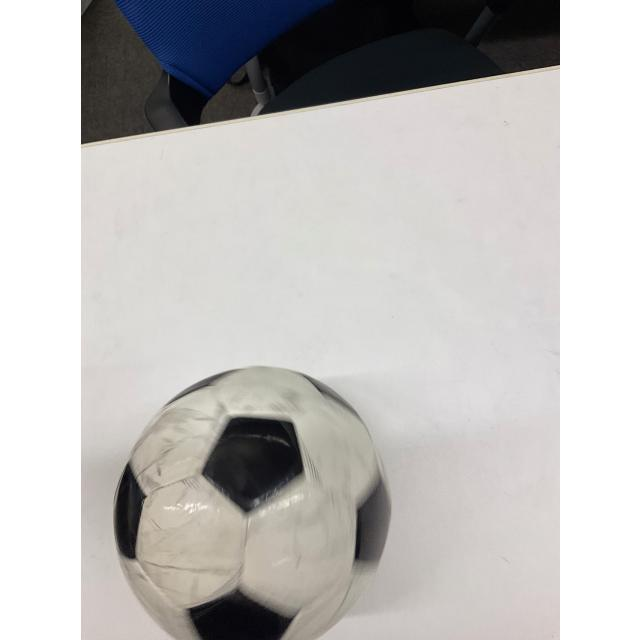ball: (113, 365, 391, 639)
